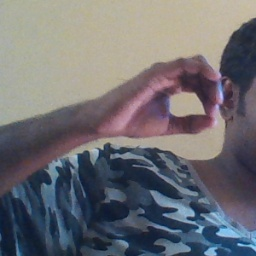O: (96, 50, 222, 141)
